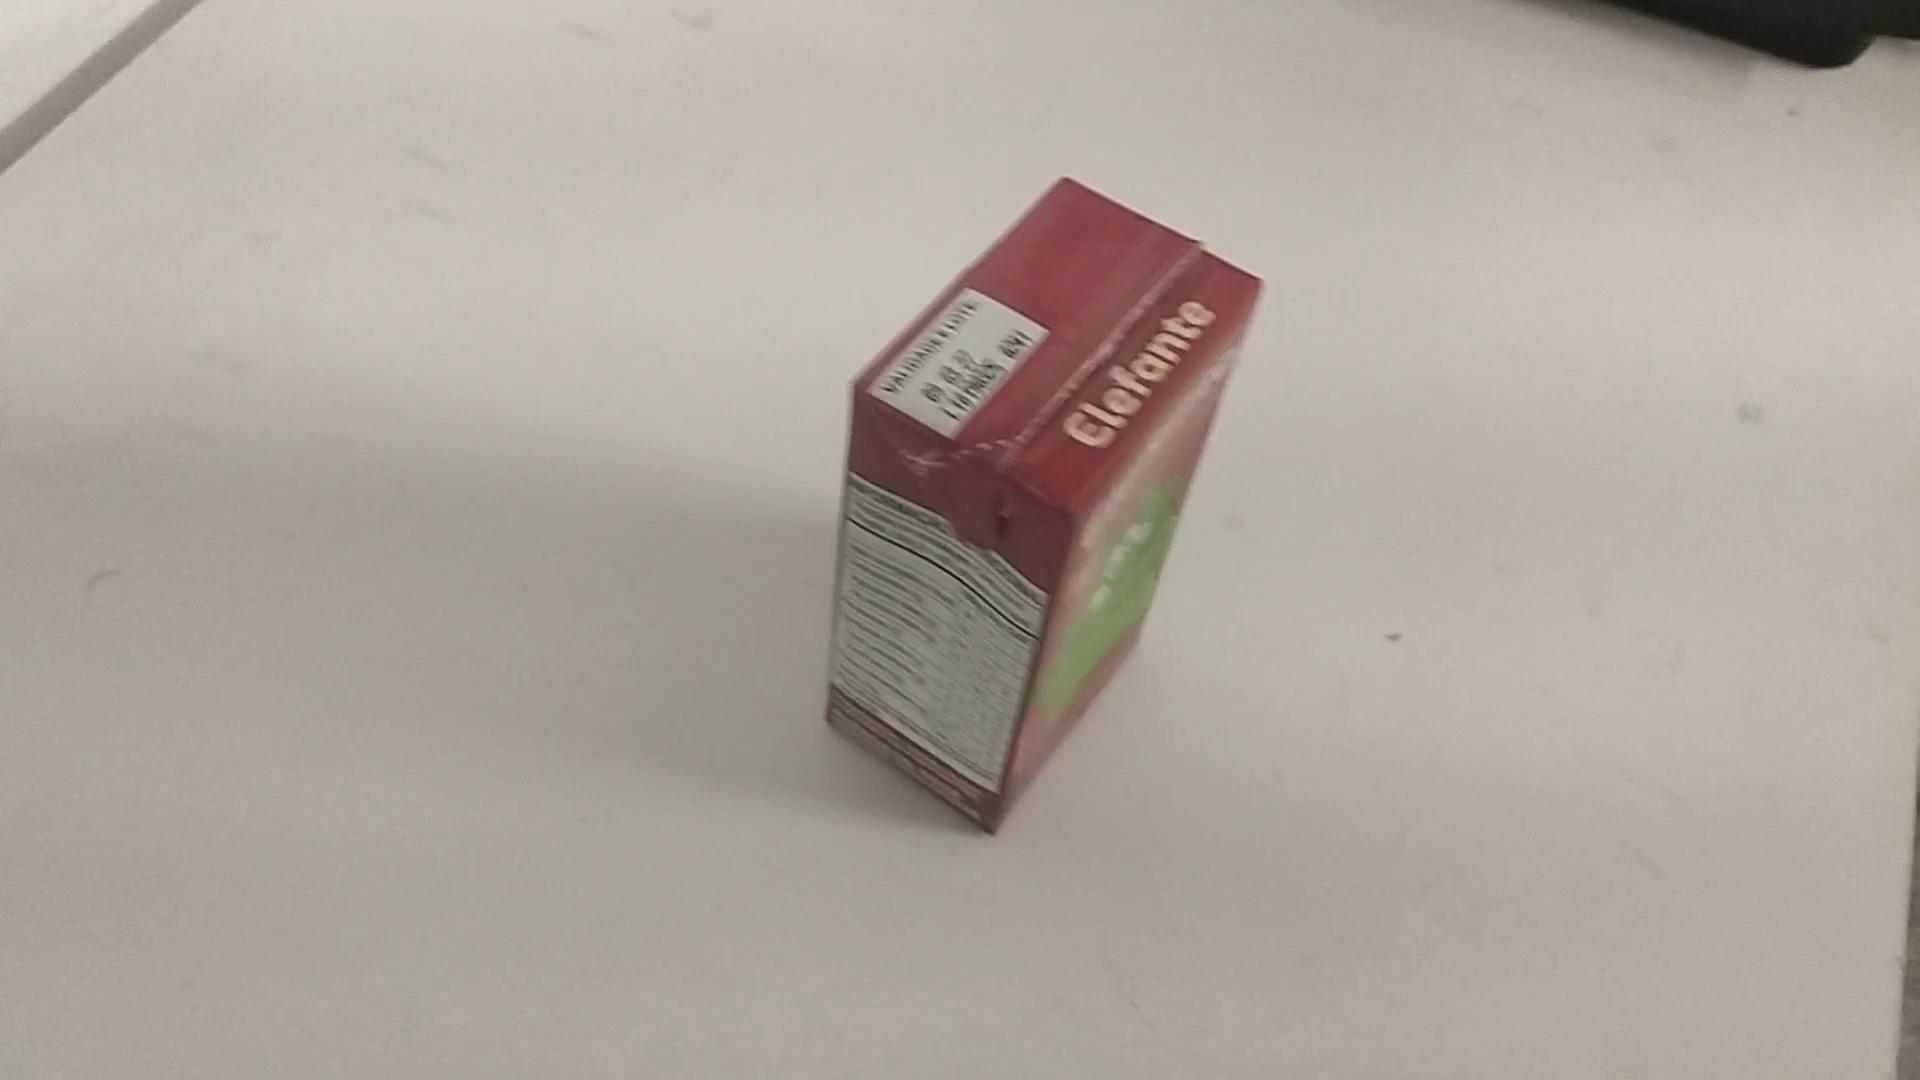tomate: (794, 161, 1282, 848)
